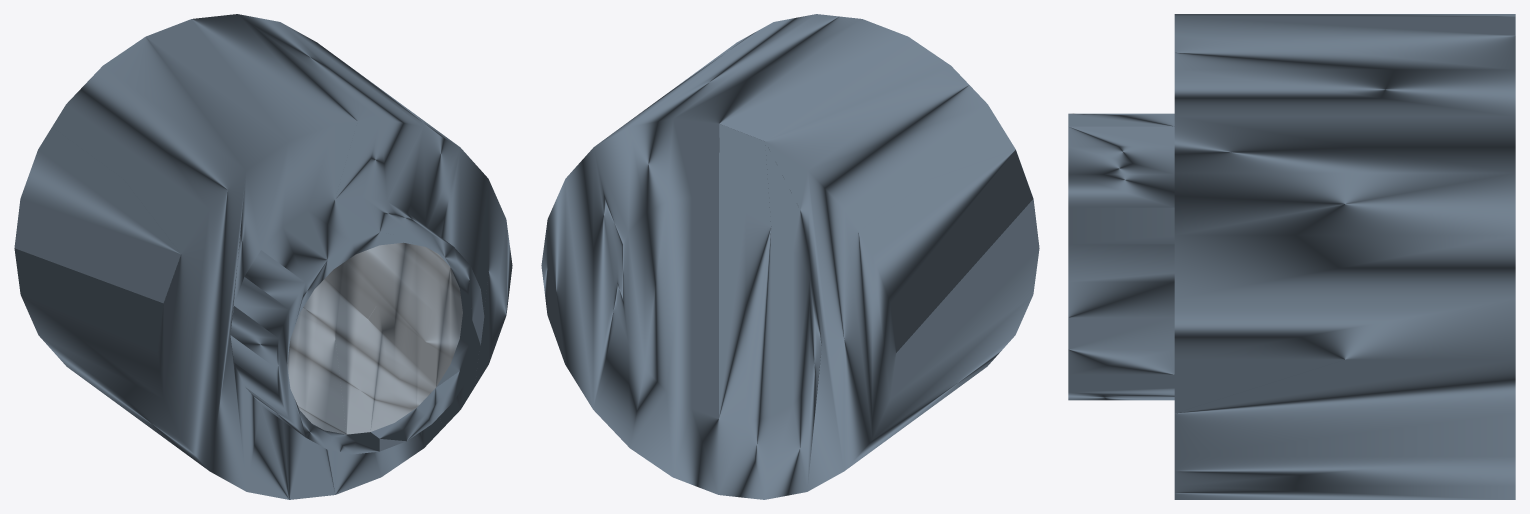
File: model_align.obj
3 views of the same model, side by side, from view 1: azimuth 30°, elevation 25°; view 2: azimuth 150°, elevation 25°; view 3: azimuth 270°, elevation 25° (orthographic). The views are drawn at different scales.
Size of the model in its own units: 0.138 by 0.138 by 0.1265.
